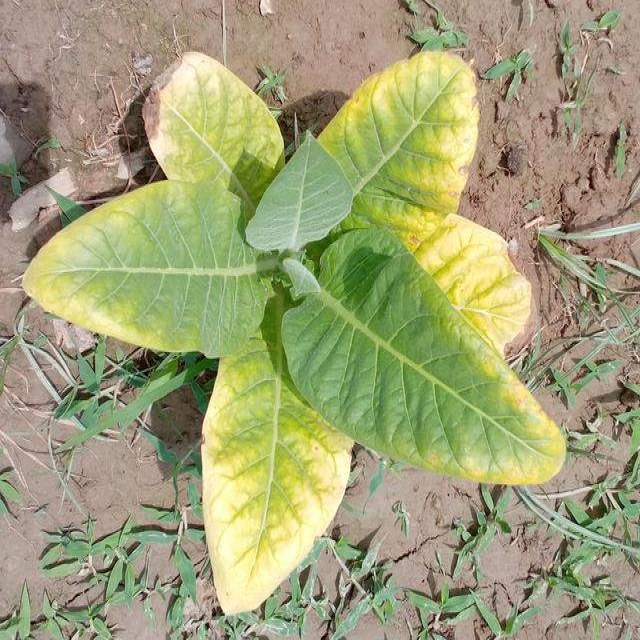crop: (22, 51, 558, 616)
